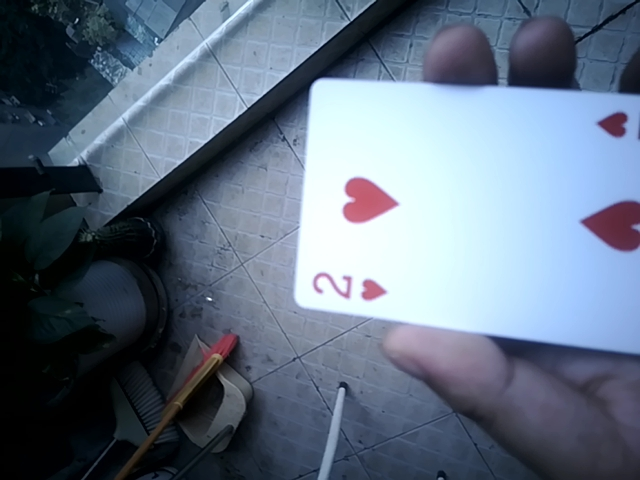hx 2: (287, 82, 638, 363)
